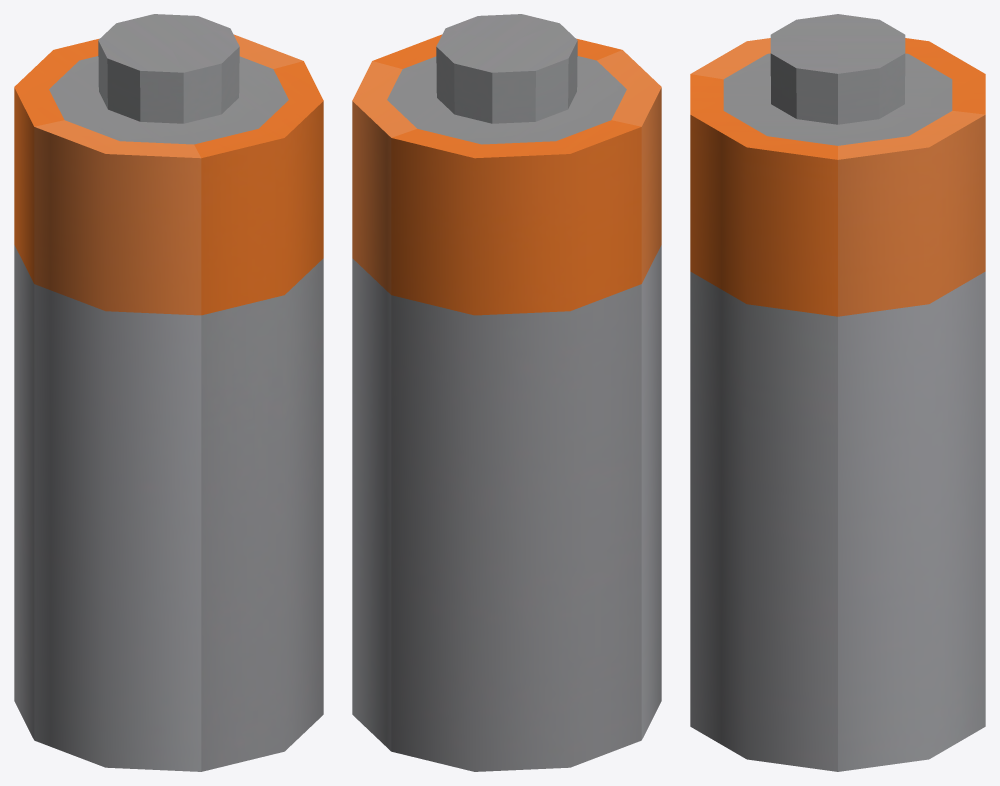
File: SM_Battery.fbx
3 views of the same model, side by side, from view 1: azimuth 30°, elevation 25°; view 2: azimuth 150°, elevation 25°; view 3: azimuth 270°, elevation 25° (orthographic).
Parts seen in each view (by area): view 1: SM_Battery; view 2: SM_Battery; view 3: SM_Battery.
Boxes of the visible parts, x1,y1,x2,y2 form: SM_Battery: (14, 14, 323, 771); SM_Battery: (352, 14, 661, 771); SM_Battery: (690, 14, 985, 771).
Size of the model in its own units: 11.74 by 27.63 by 11.16.
